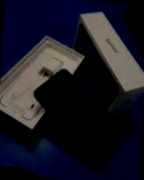iphone: (20, 70, 110, 170)
